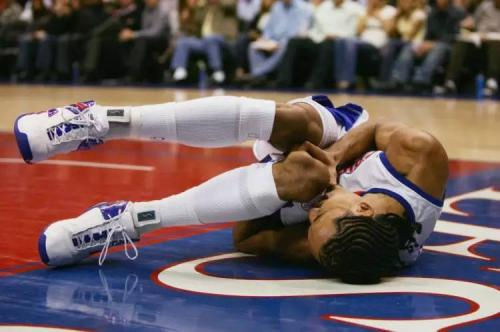10+: (1, 1, 496, 96)
down: (12, 74, 450, 270)
